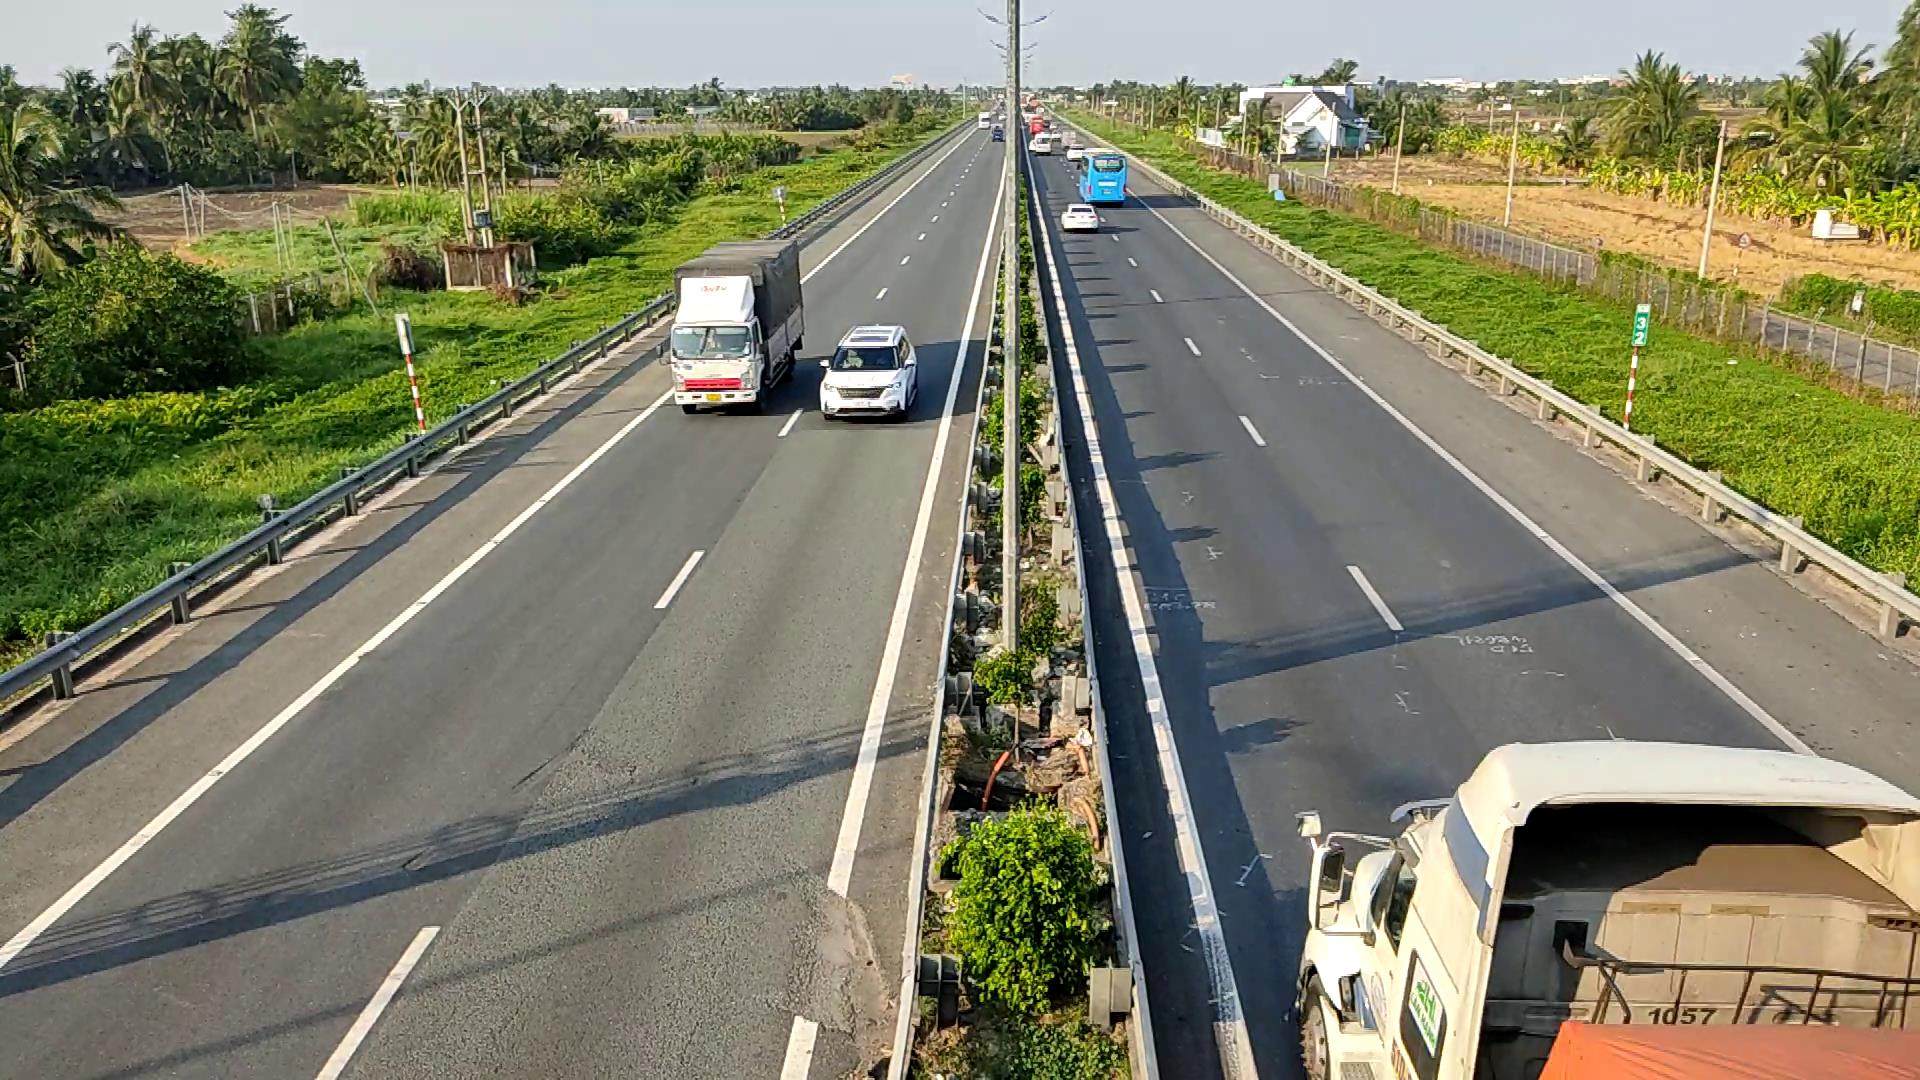car: (816, 323, 918, 419)
truck: (1292, 737, 1920, 1069), (669, 236, 804, 413)
